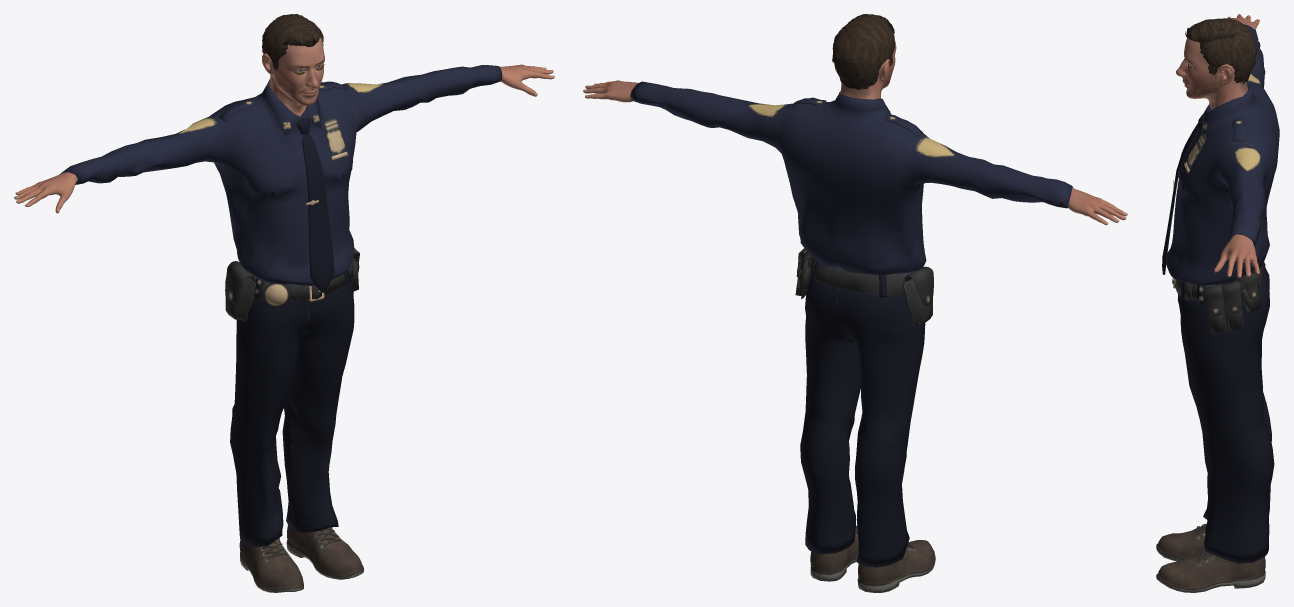
The model's file is police.gltf.
3 renders of one model, left to right at view 1: azimuth 30°, elevation 25°; view 2: azimuth 150°, elevation 25°; view 3: azimuth 270°, elevation 25°, orthographic.
Visible parts, largest first — view 1: Object_4, Object_3, Object_2; view 2: Object_3, Object_4, Object_2; view 3: Object_3, Object_4, Object_2.
Boxes of the visible parts, x1,y1,x2,y2 form: Object_4: (59, 64, 502, 592); Object_3: (225, 14, 359, 546); Object_2: (14, 37, 554, 278); Object_3: (795, 14, 933, 567); Object_4: (630, 81, 1072, 592); Object_2: (583, 39, 1127, 225); Object_3: (1172, 18, 1274, 563); Object_4: (1156, 24, 1279, 592); Object_2: (1176, 14, 1259, 277).
Size of the model in its own units: 185 by 181 by 36.87.
Materials: 1 (1 with a texture image).
